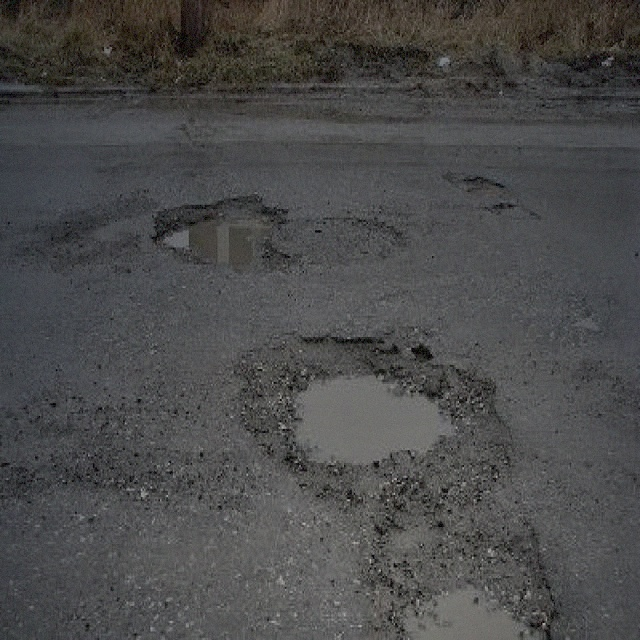pothole: (232, 324, 522, 514), (354, 520, 562, 638), (147, 190, 290, 275), (443, 169, 507, 196), (483, 198, 538, 222)
